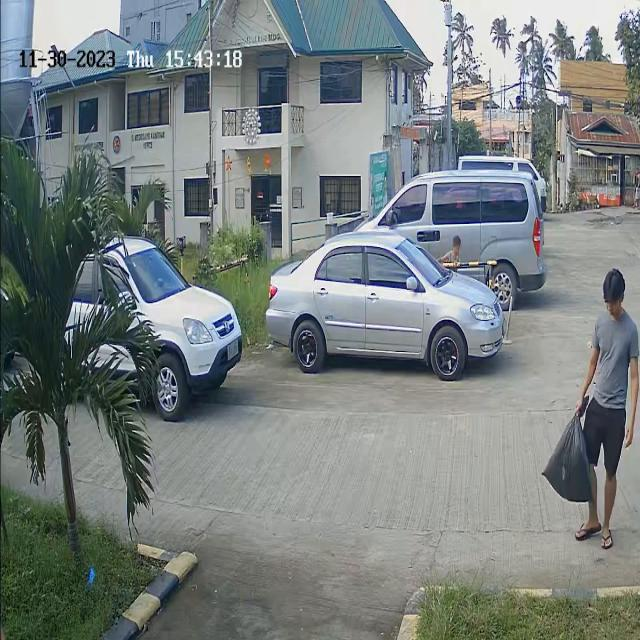garbage: (540, 397, 598, 505)
person: (583, 270, 640, 402)
